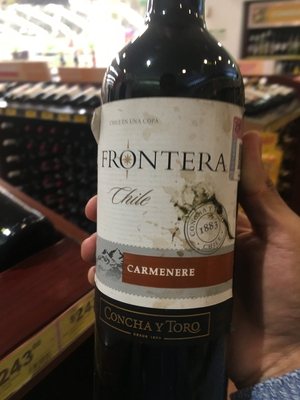frontera carmenere: (90, 5, 259, 400)
